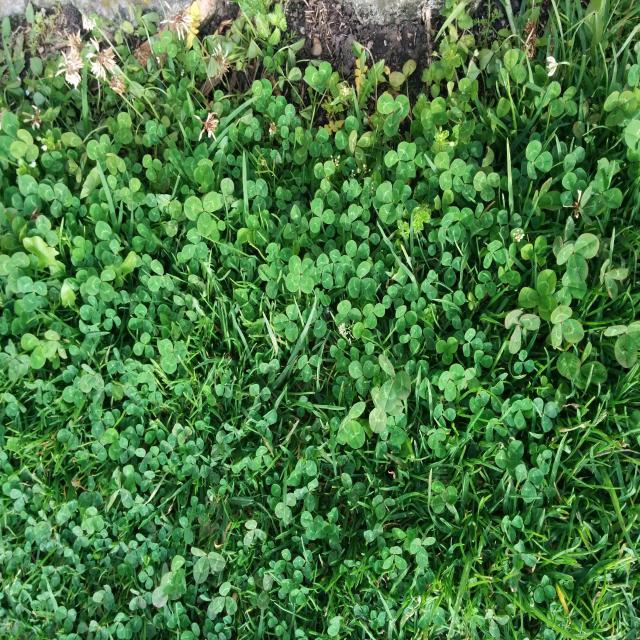Four Leaf Clover: (285, 255, 314, 294)
